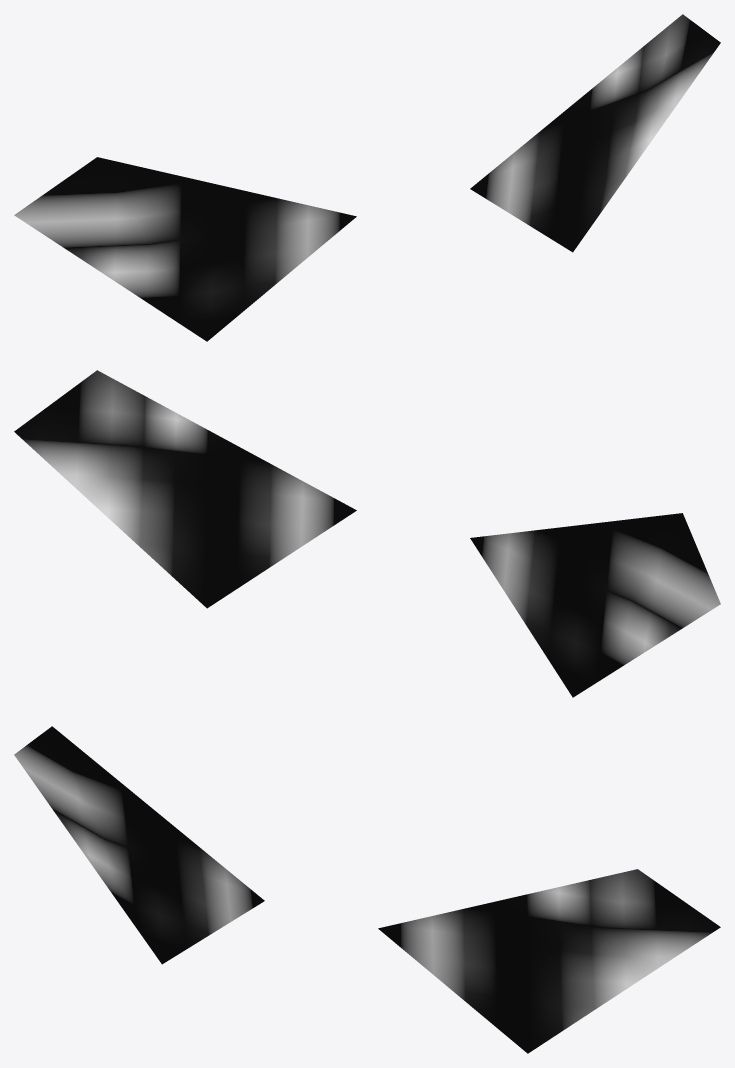
File: grave_marine_eyes.glb
3 renders of one model, top to bottom at view 1: azimuth 30°, elevation 25°; view 2: azimuth 150°, elevation 25°; view 3: azimuth 330°, elevation 25°, orthographic.
Parts seen in each view (by area): view 1: scythe_marine_head_mask_eyes; view 2: scythe_marine_head_mask_eyes; view 3: scythe_marine_head_mask_eyes.
Part boxes in pixels (box(x1,y1,x2,y2)): scythe_marine_head_mask_eyes: box(14, 14, 720, 341); scythe_marine_head_mask_eyes: box(14, 370, 720, 697); scythe_marine_head_mask_eyes: box(14, 726, 720, 1053).
Bounding box in the file's own units: 0.7655 × 0.2189 × 0.0864.
Materials: 1 (1 with a texture image).
